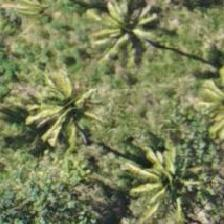coconut_tree: (17, 62, 107, 152), (120, 134, 210, 223), (91, 0, 181, 68)
